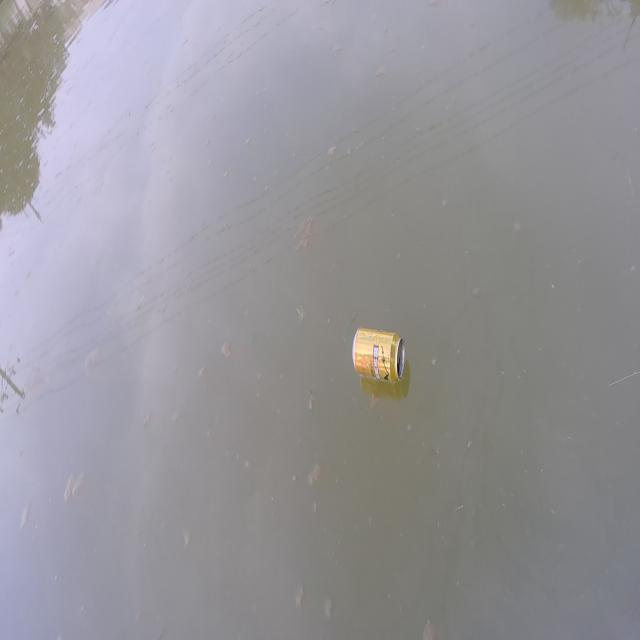garbage: (352, 326, 406, 384)
